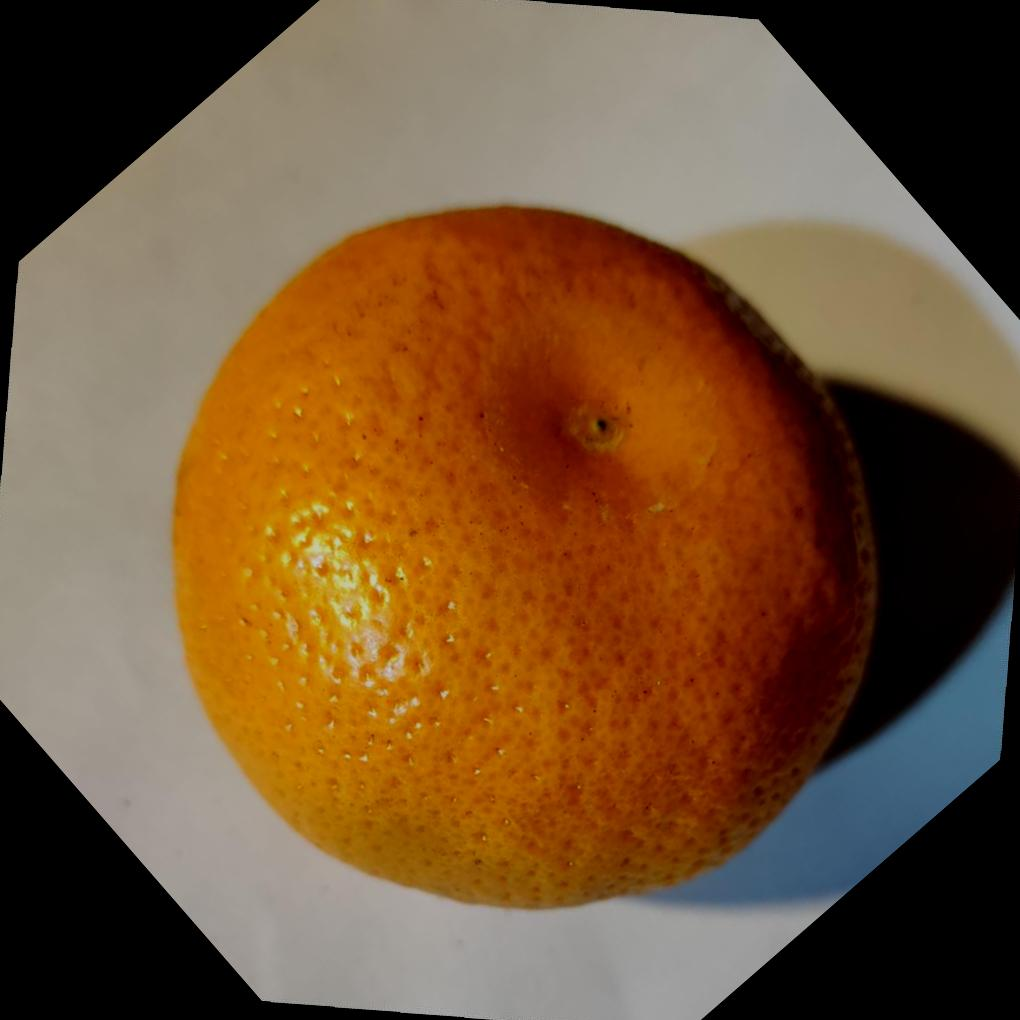FreshGuava: (164, 205, 879, 916)
